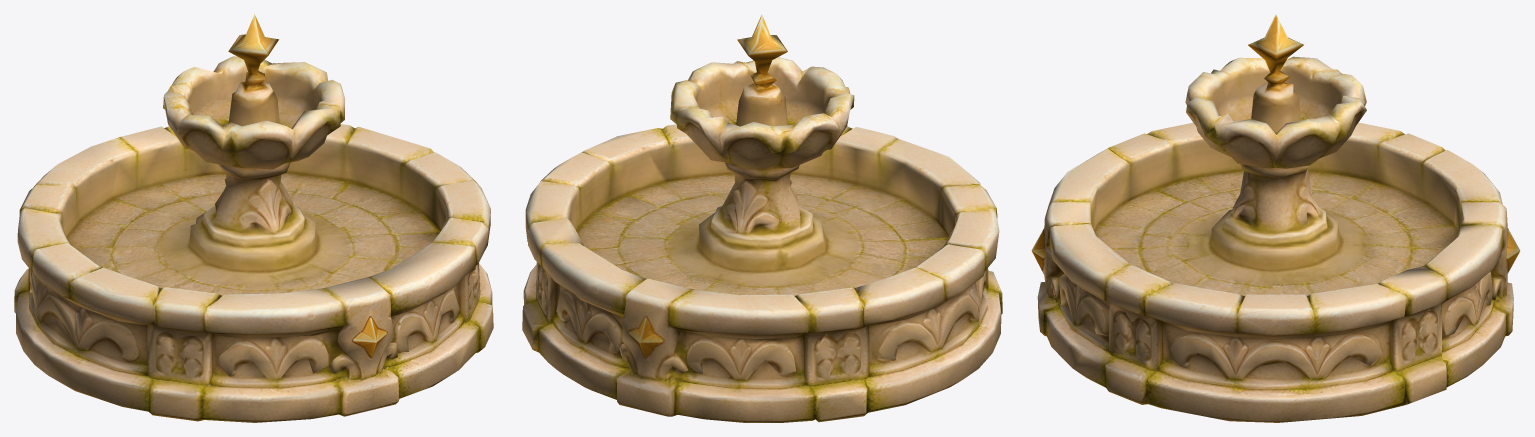
The model's file is stone-fountain.glb.
The picture shows the model from 3 angles, left to right: view 1: azimuth 30°, elevation 25°; view 2: azimuth 150°, elevation 25°; view 3: azimuth 270°, elevation 25°; orthographic projection.
Parts seen in each view (by area): view 1: tripo_node_04bdf430-441c-4f92-8473-bdb1b99b88ae; view 2: tripo_node_04bdf430-441c-4f92-8473-bdb1b99b88ae; view 3: tripo_node_04bdf430-441c-4f92-8473-bdb1b99b88ae.
Boxes of the visible parts, <box> form: tripo_node_04bdf430-441c-4f92-8473-bdb1b99b88ae: <box>14,14,493,422</box>; tripo_node_04bdf430-441c-4f92-8473-bdb1b99b88ae: <box>522,14,1002,422</box>; tripo_node_04bdf430-441c-4f92-8473-bdb1b99b88ae: <box>1031,14,1520,422</box>.
Bounding box in the file's own units: 0.9763 × 0.688 × 0.9837.
Materials: 1 (1 with a texture image).
